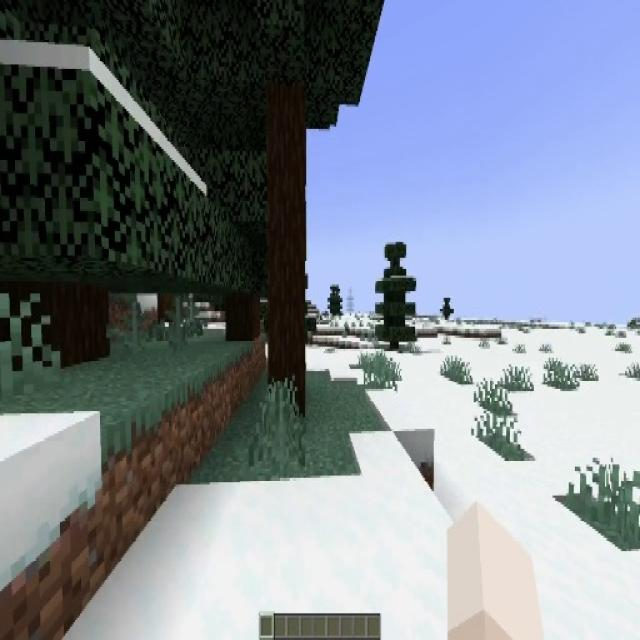spruce: (189, 0, 381, 418), (375, 235, 418, 348), (327, 284, 343, 316), (439, 297, 454, 319)
spruce_log: (269, 98, 309, 411), (0, 278, 114, 370), (226, 278, 259, 338)
